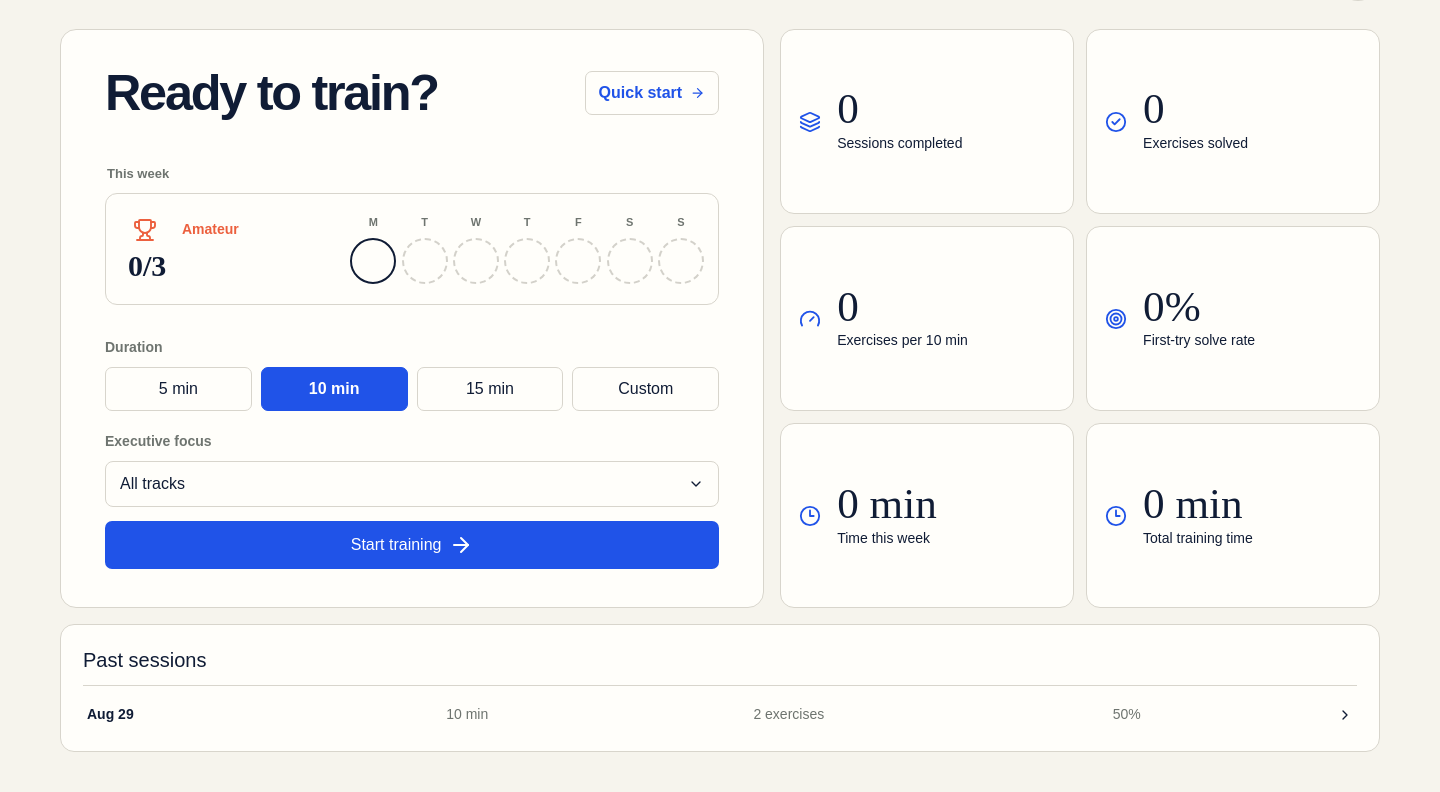
Scenario: Napkin V1 flow › opens completed sessions as review-only
(page scrolled)
Click the button "Aug 29 10 min 2 exercises 50%".
click(110, 714)  # box [83, 685, 1357, 743]
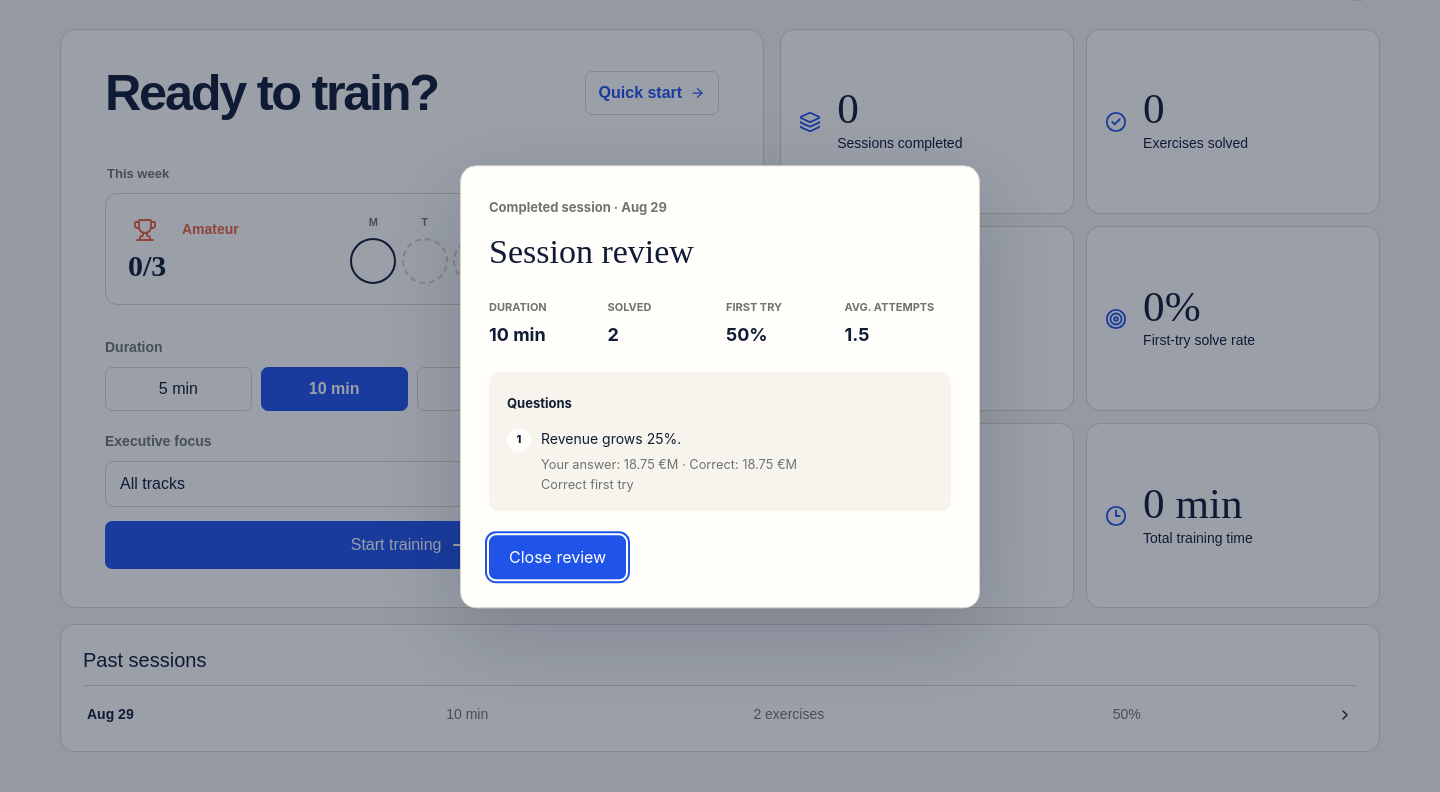
Expected: the dialog "Session review" is shown, [460, 165, 980, 609]
Expected: the text "Questions" is shown, [507, 395, 572, 411]
